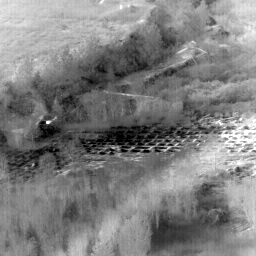aircraft: (48, 122, 50, 124)
